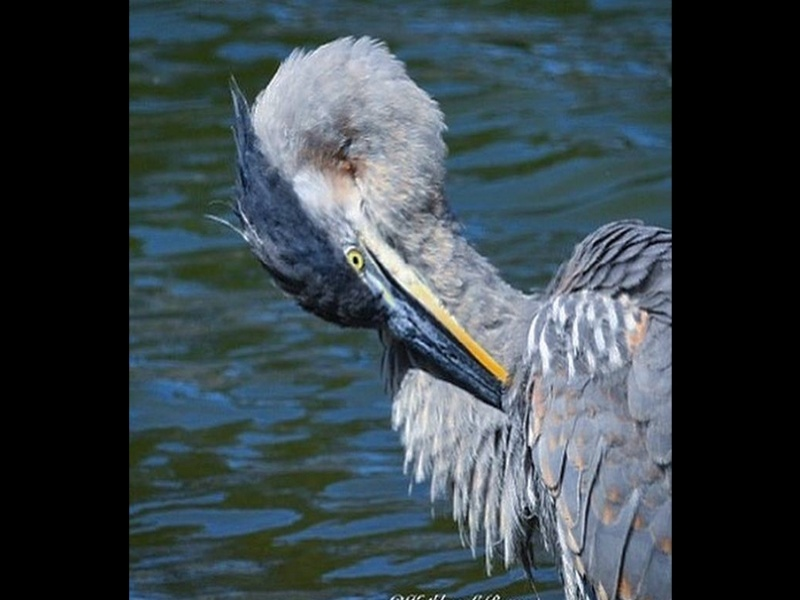heron: (225, 33, 669, 552)
